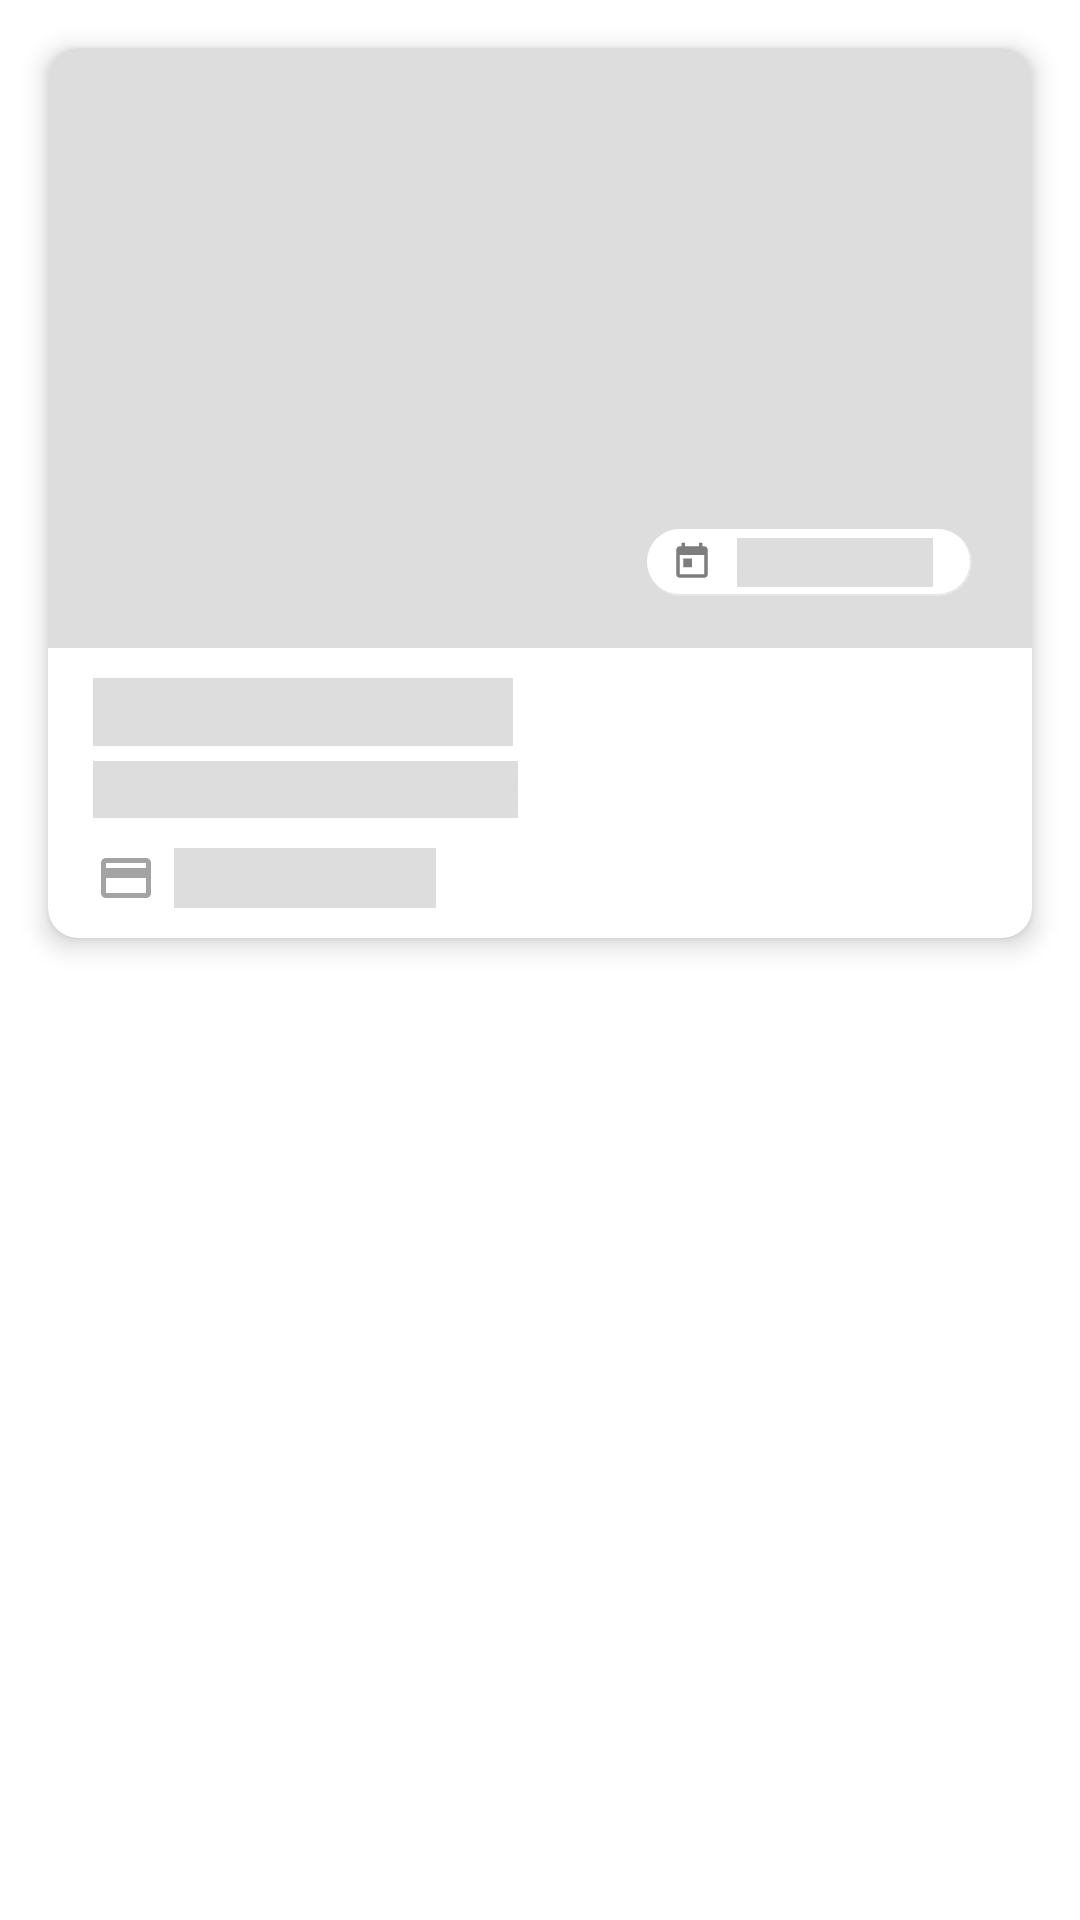

Where icons sit on this 1080x1920 app screen, as (x1, y1, x2, y2):
credit card: (101, 858, 151, 898)
date: (676, 542, 708, 578)
